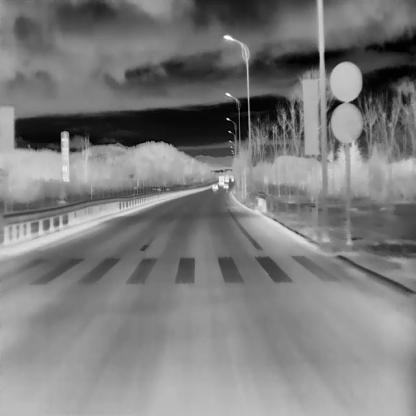car: (219, 175, 224, 185), (224, 174, 228, 181), (212, 184, 217, 189), (223, 183, 228, 188)
